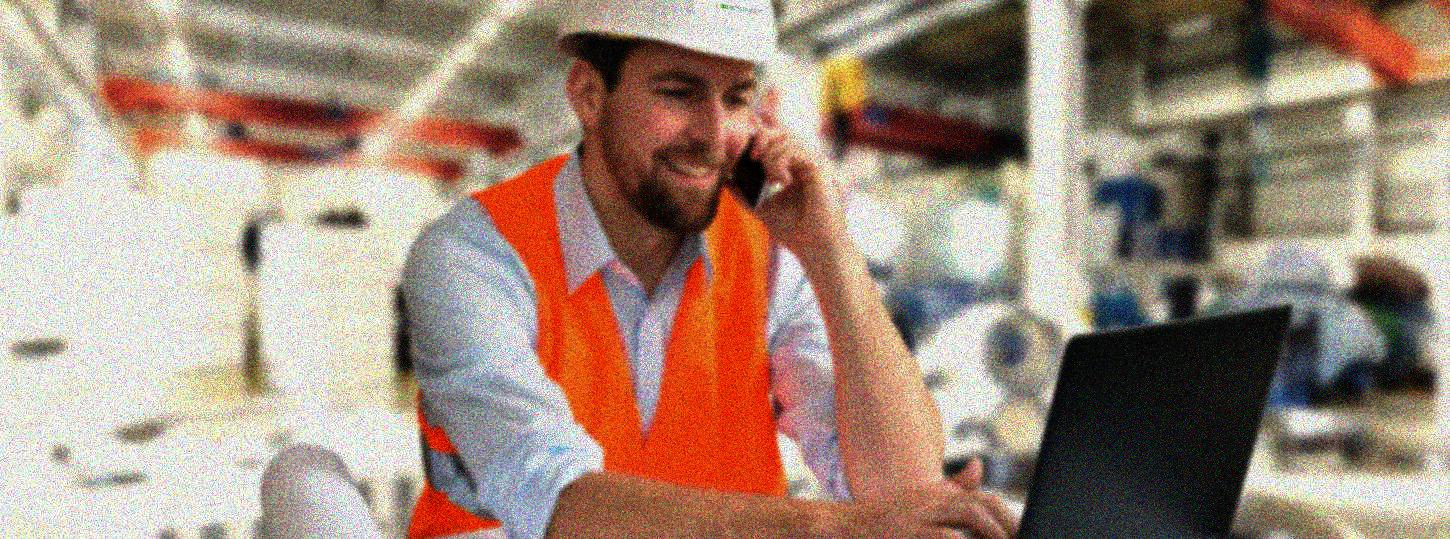helmet: (554, 1, 776, 229)
